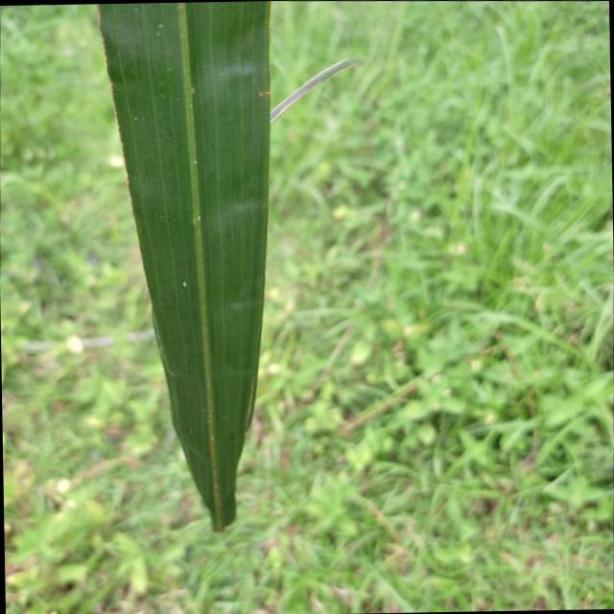Boron: (95, 0, 270, 548)
